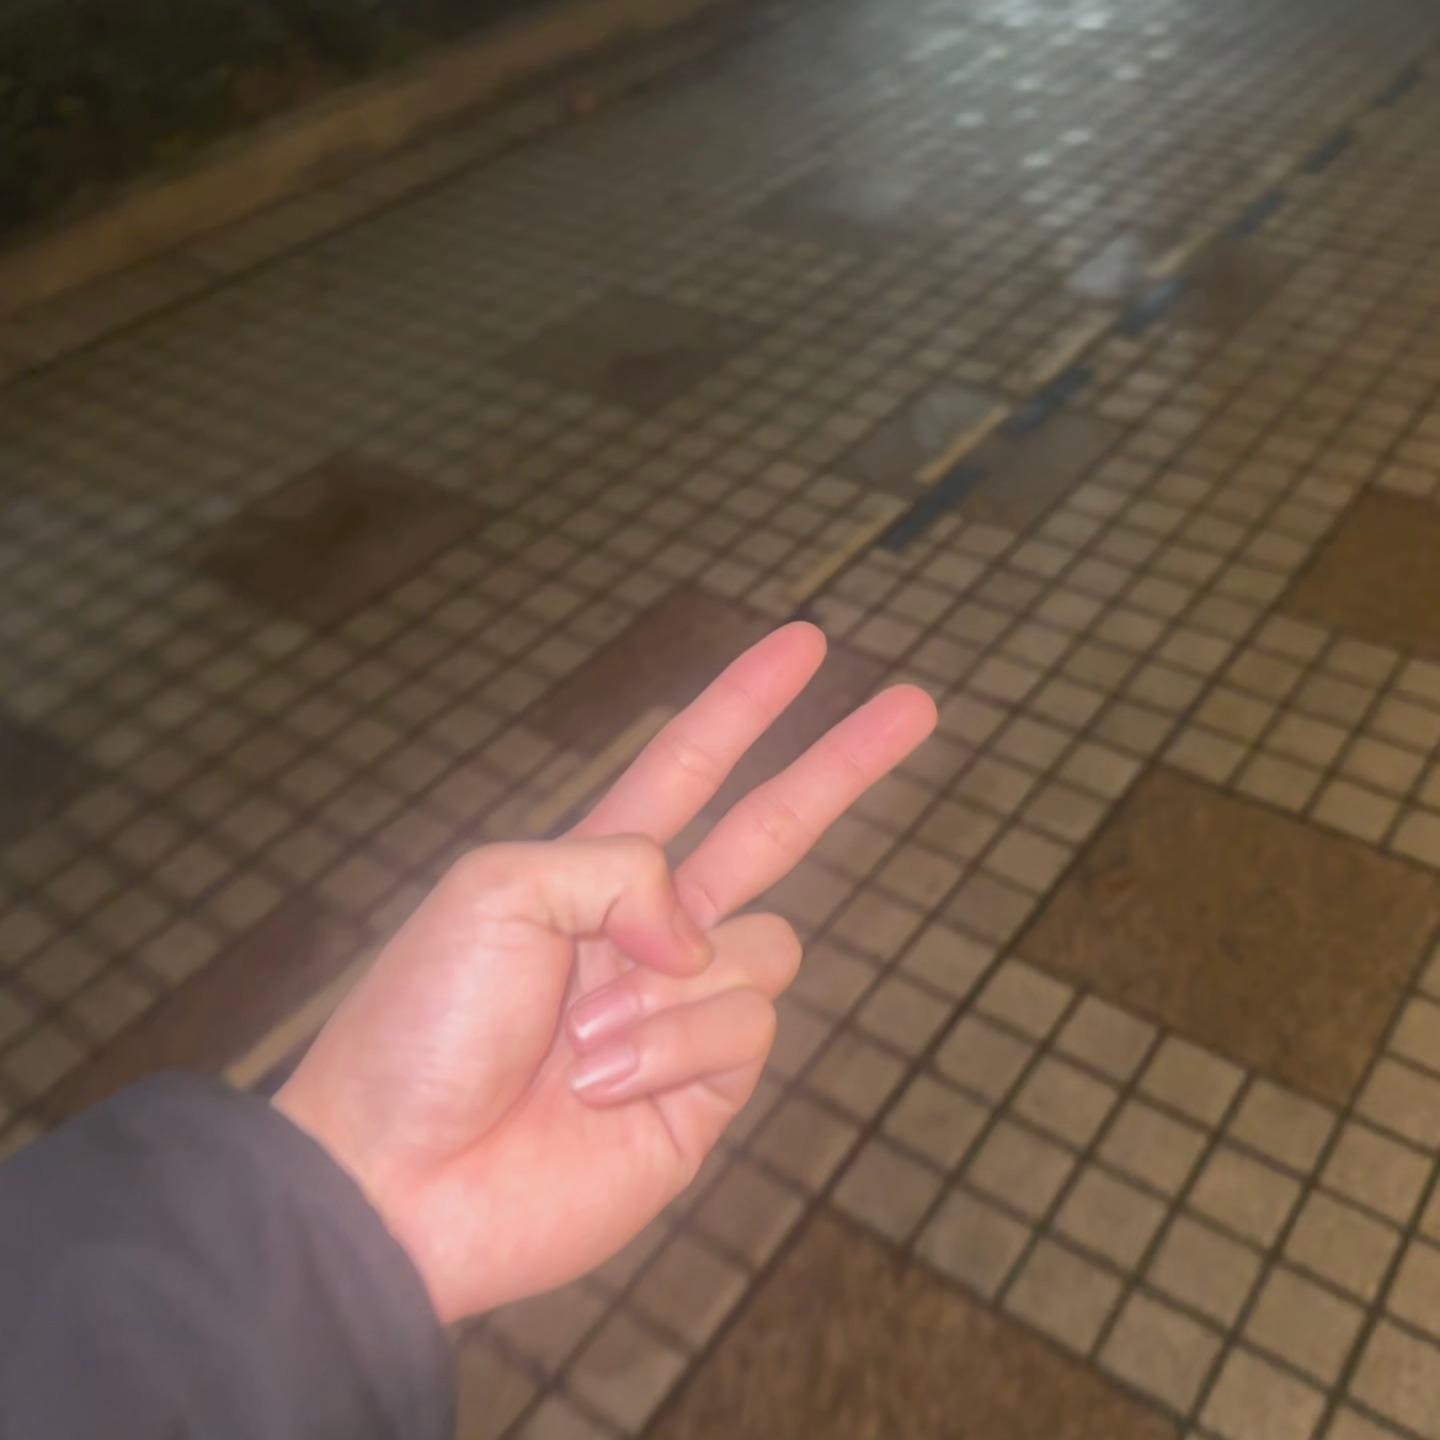without_gloves: (338, 494, 1065, 1251)
